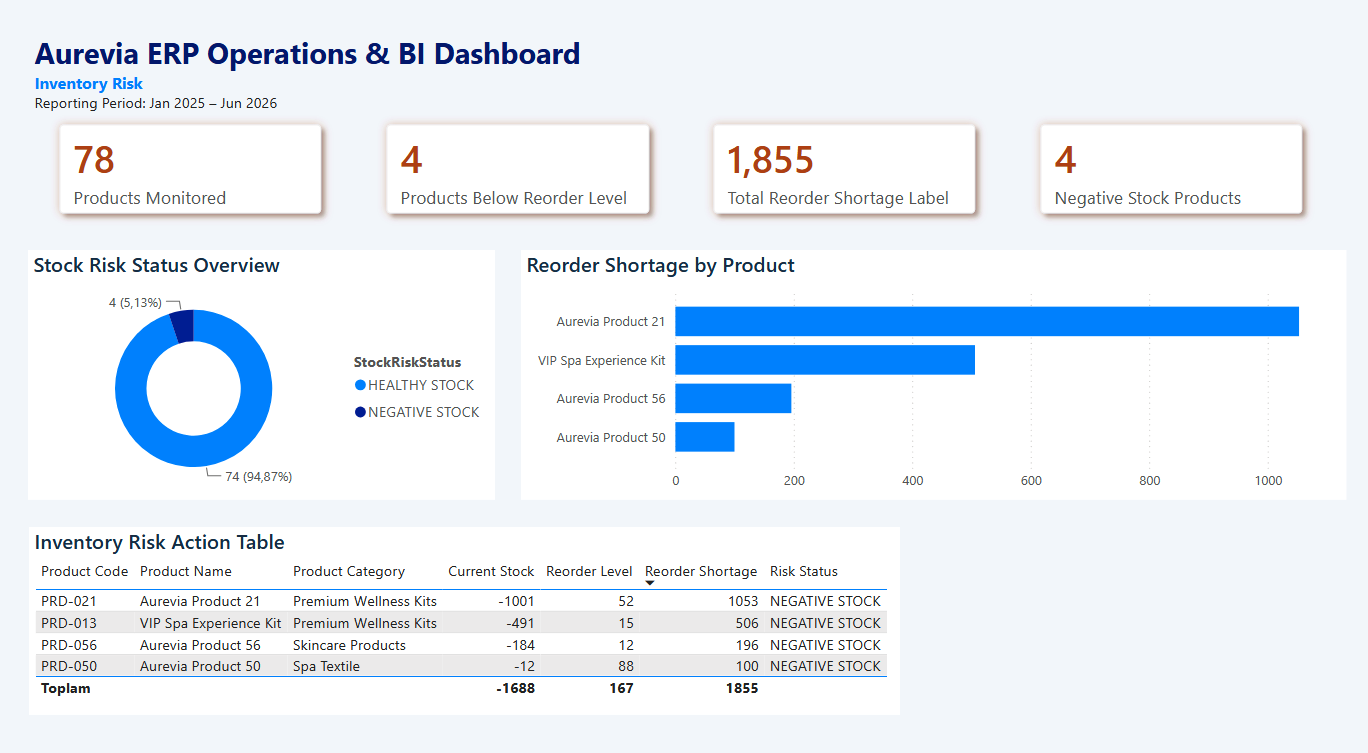

The page's visual inventory and layout, read from the dashboard file:
{"tool":"powerbi","page":{"name":"Inventory Risk","canvas":[1280,720],"ordinal":3},"visuals":[{"type":"textbox","title":"Aurevia ERP Operations & BI Dashboard Executive Overview","box":[36.6,39.4,825.2,90.1],"z":0},{"type":"cardVisual","fields":{"Data":["vw_ExecutiveKPI.Products Below Reorder Level"]},"box":[337,100,300.7,140.2],"z":1000},{"type":"cardVisual","fields":{"Data":["vw_InventoryRisk.Products Monitored"]},"box":[36,100,299.5,140.2],"z":2000},{"type":"cardVisual","fields":{"Data":["vw_InventoryRisk.Negative Stock Products"]},"box":[939,100,299.5,140.2],"z":3000},{"type":"cardVisual","fields":{"Data":["vw_InventoryRisk.Total Reorder Shortage Label"]},"box":[638,100,299.5,140.2],"z":4000},{"type":"donutChart","title":"Stock Risk Status Overview","fields":{"Category":["vw_InventoryRisk.StockRiskStatus"],"Y":["vw_InventoryRisk.Products Monitored"]},"box":[36,245,430,230],"z":5000},{"type":"clusteredBarChart","title":"Reorder Shortage by Product","fields":{"Category":["vw_InventoryRisk.ProductName"],"Y":["Sum(vw_InventoryRisk.ReorderGap)"]},"box":[490,245,760,230],"z":6000},{"type":"tableEx","title":"Inventory Risk Action Table","fields":{"Values":["vw_InventoryRisk.ProductCode","vw_InventoryRisk.ProductName","vw_InventoryRisk.ProductCategory","Sum(vw_InventoryRisk.CurrentStockOnHand)","Sum(vw_InventoryRisk.ReorderLevel)","Sum(vw_InventoryRisk.ReorderGap)","vw_InventoryRisk.StockRiskStatus"]},"box":[36.8,499.9,801.9,173.1],"z":7000}]}

Visuals, with their boxes in screenshot pixels (x1, y1, x2, y2), scaled from the page's 1280x720 canvas onto the 1368x753 screenshot:
"Aurevia ERP Operations & BI Dashboard Executive Overview" textbox: x1=39, y1=41, x2=921, y2=135
cardVisual - vw_ExecutiveKPI.Products Below Reorder Level: x1=360, y1=105, x2=682, y2=251
cardVisual - vw_InventoryRisk.Products Monitored: x1=38, y1=105, x2=359, y2=251
cardVisual - vw_InventoryRisk.Negative Stock Products: x1=1004, y1=105, x2=1324, y2=251
cardVisual - vw_InventoryRisk.Total Reorder Shortage Label: x1=682, y1=105, x2=1002, y2=251
"Stock Risk Status Overview" donutChart: x1=38, y1=256, x2=498, y2=497
"Reorder Shortage by Product" clusteredBarChart: x1=524, y1=256, x2=1336, y2=497
"Inventory Risk Action Table" tableEx: x1=39, y1=523, x2=896, y2=704
